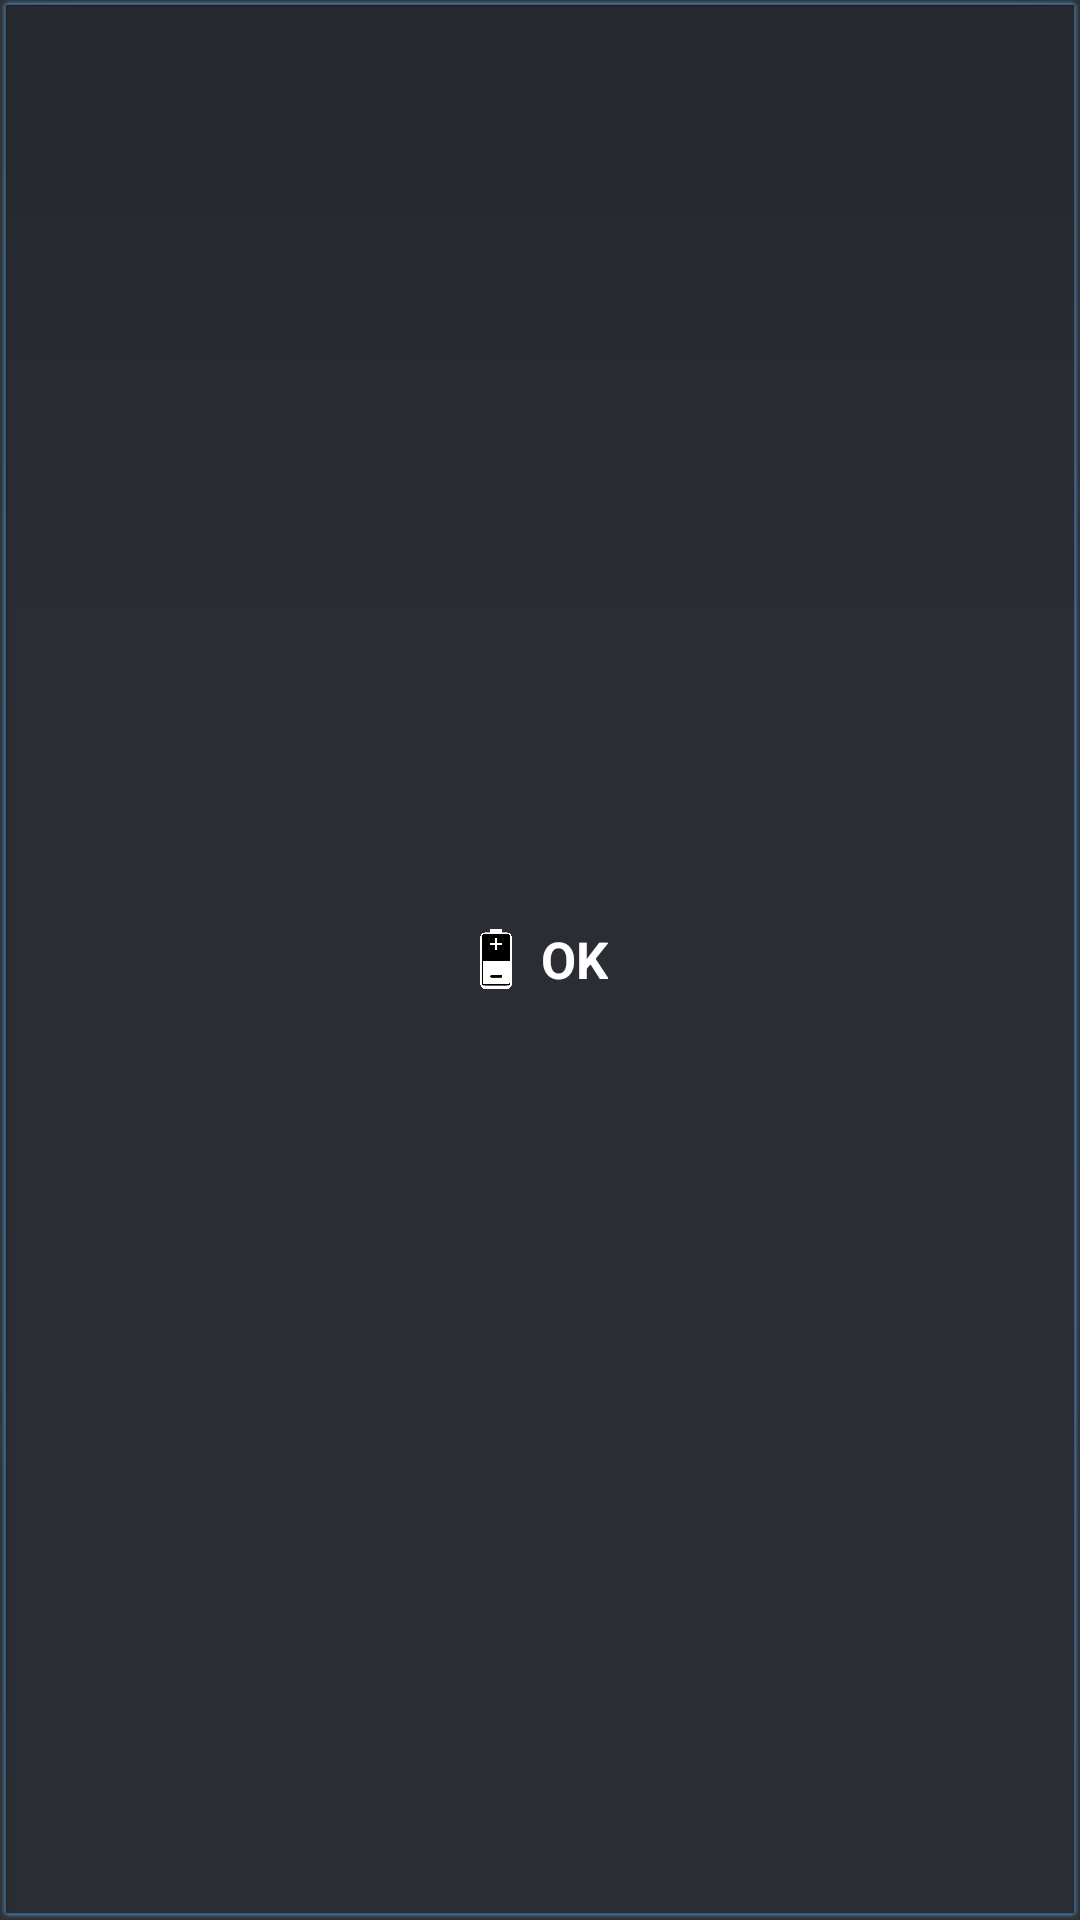

Where icons sit on this 1080w x 1920h app screen, as (x1, y1, x2, y2):
battery: (480, 929, 512, 989)
